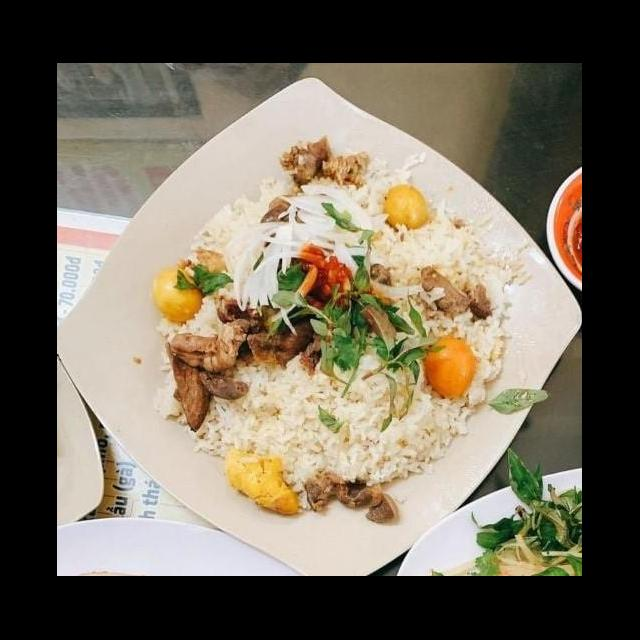com: (195, 351, 478, 504), (354, 162, 538, 354), (184, 174, 296, 338)
rau ram: (268, 262, 402, 354), (359, 332, 448, 436), (320, 200, 384, 288)
trung: (420, 334, 480, 406), (150, 266, 208, 330), (379, 182, 434, 234)
